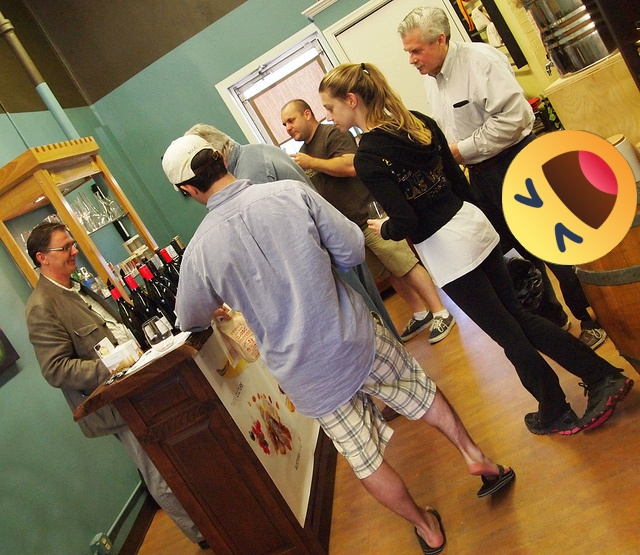haha: (502, 130, 637, 265)
